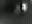person: (15, 5, 22, 17), (23, 3, 29, 15)
